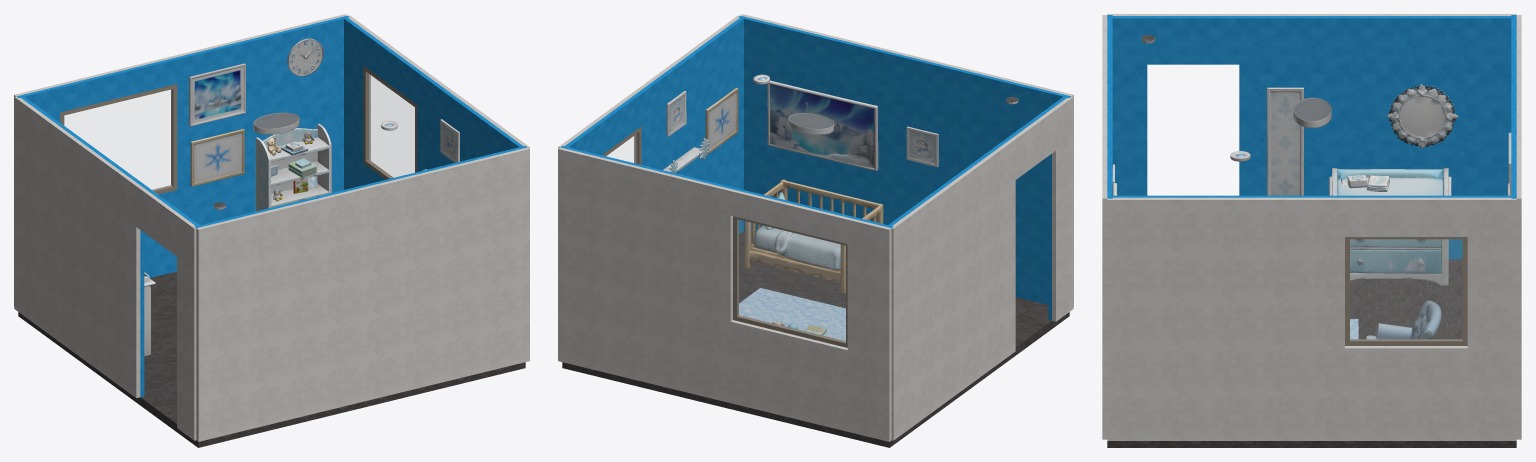
Rendered from scene_web.glb.
The picture shows the model from 3 angles, left to right: view 1: azimuth 30°, elevation 25°; view 2: azimuth 150°, elevation 25°; view 3: azimuth 270°, elevation 25°; orthographic projection. The views are drawn at different scales.
Visible parts, largest first — view 1: geometry_0.003, geometry_0.007, geometry_0, geometry_0.004, Mesh_0, glass, geometry_0.010, glass.001, geometry_0.016, geometry_0.017, geometry_0.006, frame (+8 smaller); view 2: geometry_0.001, geometry_0.002, geometry_0.007, geometry_0.004, glass, Mesh_0, geometry_0.014, geometry_0.008, Mesh_0.001, frame, geometry_0.021, geometry_0.006 (+7 smaller); view 3: geometry_0.005, geometry_0.006, glass.001, Mesh_0, geometry_0.009, geometry_0.022, geometry_0.023, geometry_0.001, geometry_0.003, frame.001, geometry_0.012, geometry_0.004 (+4 smaller).
Boxes of the visible parts, left/top/right/bottom form: geometry_0.003: left=196, top=147, right=529, bottom=441; geometry_0.007: left=14, top=96, right=196, bottom=440; geometry_0: left=16, top=15, right=349, bottom=277; geometry_0.004: left=344, top=18, right=522, bottom=189; Mesh_0: left=18, top=271, right=525, bottom=447; glass: left=64, top=89, right=172, bottom=190; geometry_0.010: left=255, top=123, right=331, bottom=211; glass.001: left=368, top=73, right=414, bottom=177; geometry_0.016: left=189, top=63, right=245, bottom=126; geometry_0.017: left=190, top=129, right=244, bottom=186; geometry_0.006: left=21, top=96, right=199, bottom=397; frame: left=60, top=84, right=177, bottom=194; geometry_0.001: left=558, top=147, right=891, bottom=441; geometry_0.002: left=738, top=15, right=1071, bottom=304; geometry_0.007: left=891, top=96, right=1073, bottom=440; geometry_0.004: left=565, top=18, right=743, bottom=233; glass: left=738, top=220, right=845, bottom=341; Mesh_0: left=562, top=231, right=1069, bottom=447; geometry_0.014: left=767, top=80, right=878, bottom=171; geometry_0.008: left=744, top=179, right=883, bottom=293; Mesh_0.001: left=739, top=288, right=845, bottom=341; frame: left=733, top=216, right=847, bottom=347; geometry_0.021: left=705, top=88, right=738, bottom=154; geometry_0.006: left=888, top=96, right=1066, bottom=320; geometry_0.005: left=1107, top=197, right=1516, bottom=440; geometry_0.006: left=1112, top=16, right=1511, bottom=259; glass.001: left=1350, top=239, right=1462, bottom=339; Mesh_0: left=1107, top=259, right=1516, bottom=447; geometry_0.009: left=1329, top=168, right=1451, bottom=285; geometry_0.022: left=1267, top=87, right=1303, bottom=195; geometry_0.023: left=1387, top=84, right=1458, bottom=148; geometry_0.001: left=1516, top=15, right=1521, bottom=439; geometry_0.003: left=1102, top=15, right=1107, bottom=439; frame.001: left=1345, top=237, right=1467, bottom=345; geometry_0.012: left=1366, top=300, right=1441, bottom=339; geometry_0.004: left=1112, top=195, right=1511, bottom=197.
Size of the model in its own units: 4.3 by 2.7 by 4.1.
42 materials, 40 textured.
